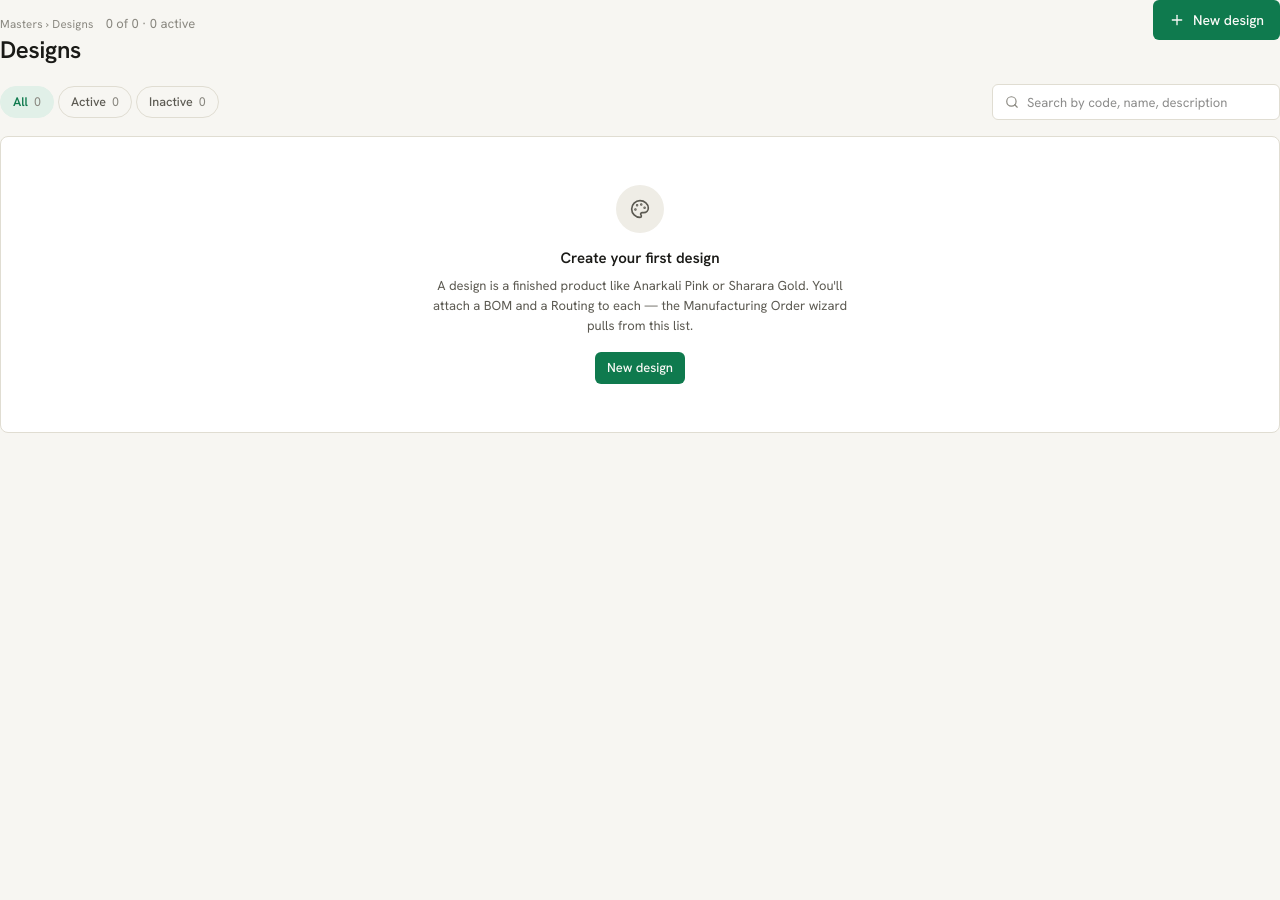
Test: DesignsList (live-mode, TASK-TR-E1) › EMPTY state: true-empty CTA opens the new-design dialog
The image size is (1280, 900).
Expected: the heading "Create your first design" is shown, [560,247,720,270]
Click the button "New design" below "Create your first design". click: (640, 368)
box: [595,352,685,384]
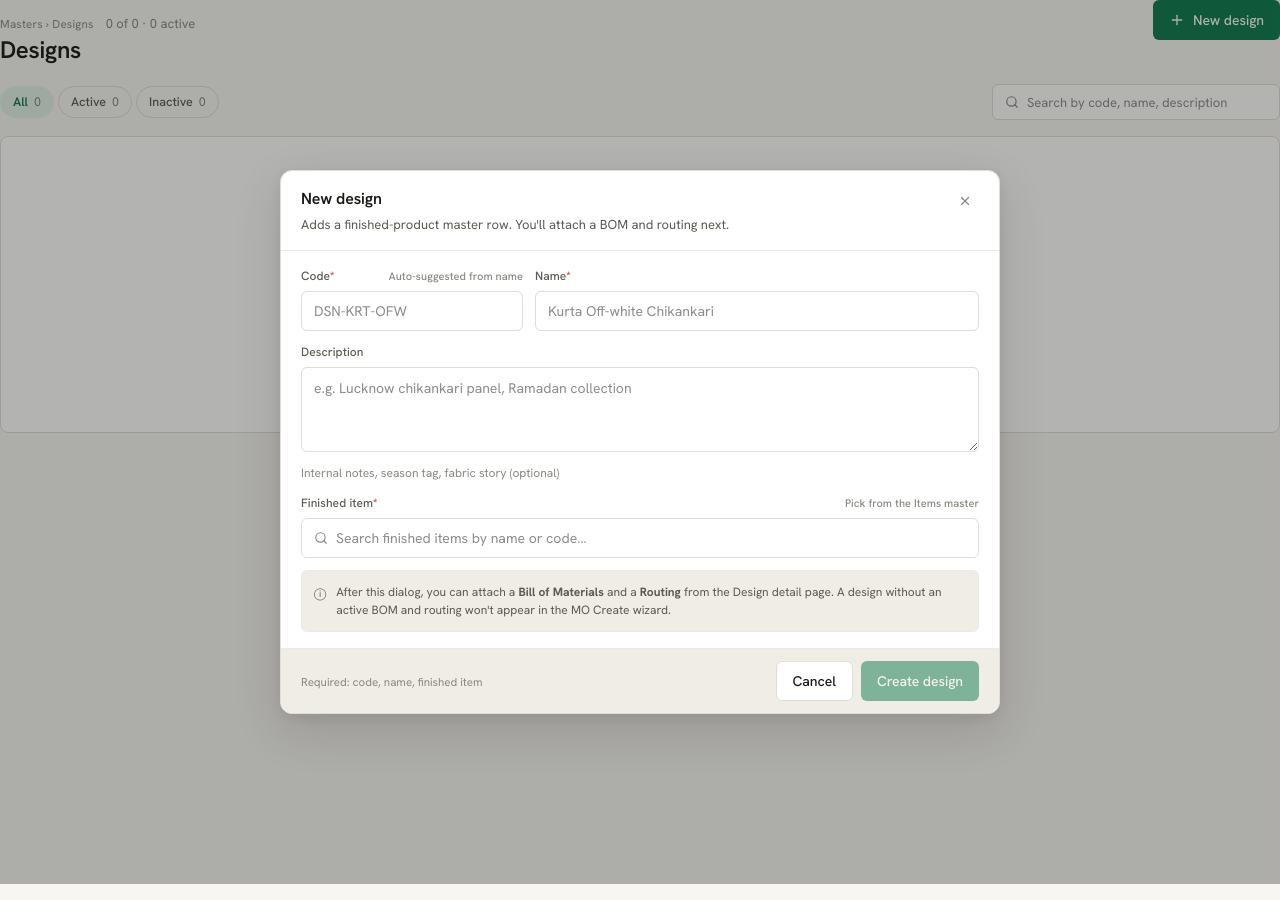
Result: the dialog "New design" is shown
